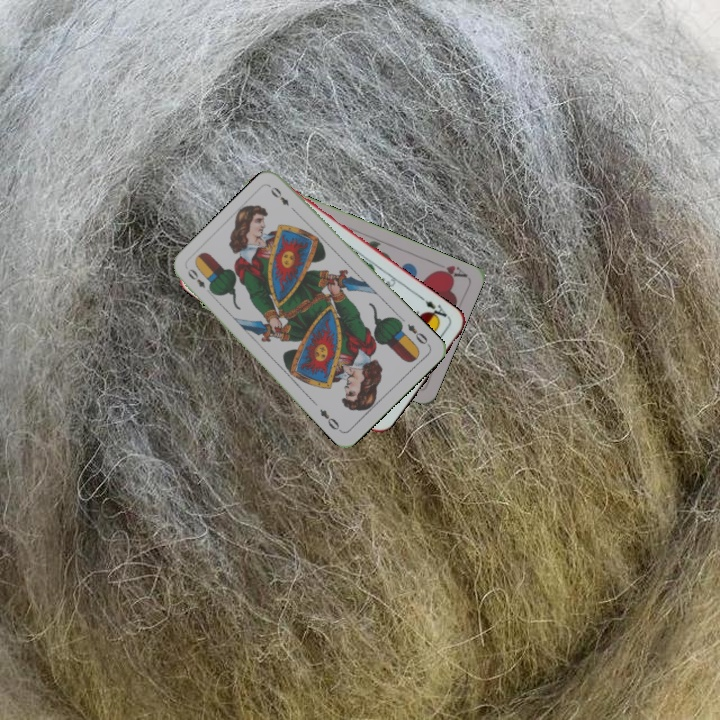EA: (417, 293, 452, 323)
EO: (183, 265, 215, 297), (403, 320, 432, 348)
HA: (430, 261, 470, 282)
